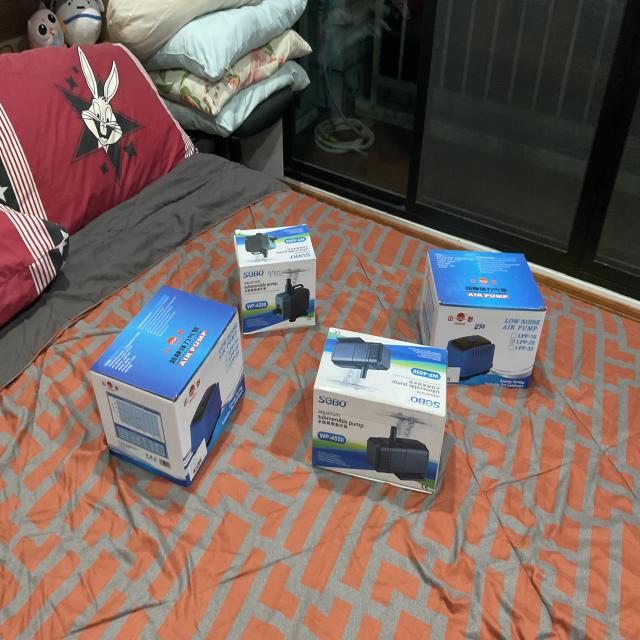SOBO_WP_4200: (308, 322, 460, 508), (230, 210, 328, 338)
YAMANO_LPP_20: (86, 273, 254, 487), (413, 240, 552, 388)
